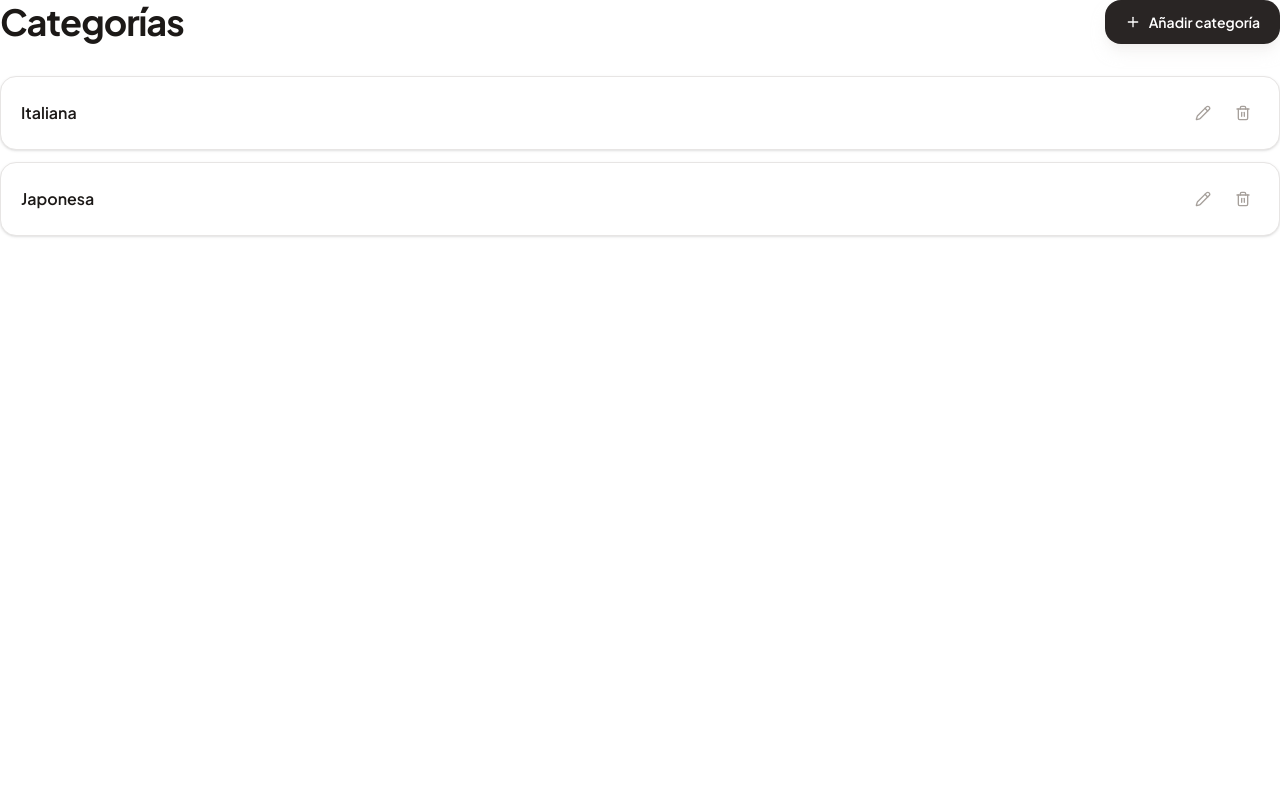
Scenario: CategoriasPage › opens create modal on Añadir click
Click the button "Añadir categoría" at (1192, 22), box [1105, 0, 1279, 44]
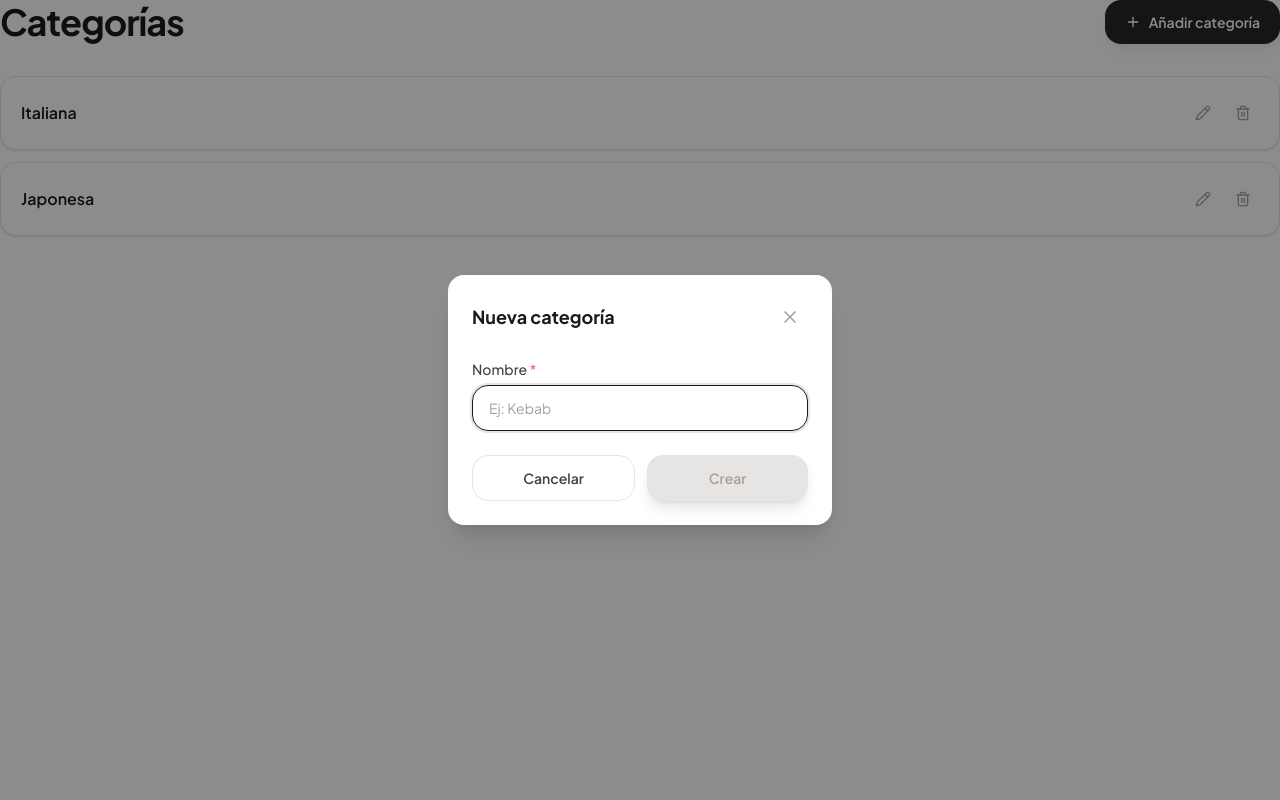
Expected: the heading "Nueva categoría" is shown, [472, 303, 615, 331]
